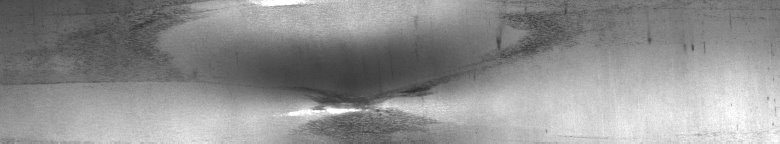ke: (264, 4, 435, 136)
